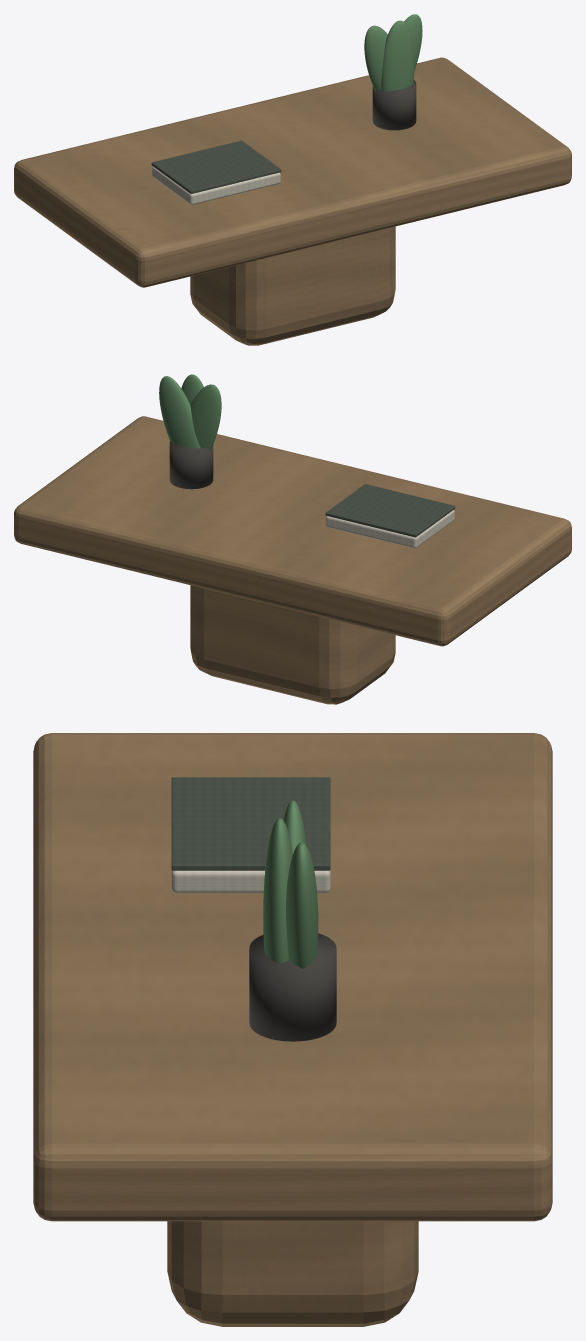
Rendered from coffee-table.glb.
3 views of the same model, one above another, from view 1: azimuth 30°, elevation 25°; view 2: azimuth 150°, elevation 25°; view 3: azimuth 270°, elevation 25° (orthographic). The views are drawn at different scales.
Parts seen in each view (by area): view 1: CANONICAL rounded top, CANONICAL pedestal, ACCENT book cover, ACCENT leaf.002, ACCENT planter, ACCENT bound book, ACCENT leaf, ACCENT leaf.001; view 2: CANONICAL rounded top, CANONICAL pedestal, ACCENT book cover, ACCENT leaf.001, ACCENT planter, ACCENT leaf, ACCENT bound book; view 3: CANONICAL rounded top, CANONICAL pedestal, ACCENT book cover, ACCENT planter, ACCENT leaf.001, ACCENT leaf.002, ACCENT bound book.
Boxes of the visible parts, <box> form: CANONICAL rounded top: <box>14,57,571,287</box>; CANONICAL pedestal: <box>190,226,395,345</box>; ACCENT book cover: <box>151,140,281,193</box>; ACCENT leaf.002: <box>381,20,414,90</box>; ACCENT planter: <box>372,80,416,130</box>; ACCENT bound book: <box>152,166,280,204</box>; ACCENT leaf: <box>364,25,387,91</box>; ACCENT leaf.001: <box>404,14,422,70</box>; CANONICAL rounded top: <box>14,416,571,646</box>; CANONICAL pedestal: <box>190,585,395,704</box>; ACCENT book cover: <box>325,484,455,537</box>; ACCENT leaf.001: <box>159,376,200,448</box>; ACCENT planter: <box>169,441,213,489</box>; ACCENT leaf: <box>190,384,221,450</box>; ACCENT bound book: <box>326,510,454,548</box>; CANONICAL rounded top: <box>33,733,552,1221</box>; CANONICAL pedestal: <box>167,1221,418,1326</box>; ACCENT book cover: <box>171,777,330,870</box>; ACCENT planter: <box>249,933,336,1041</box>; ACCENT leaf.001: <box>286,842,318,968</box>; ACCENT leaf.002: <box>263,818,292,962</box>; ACCENT bound book: <box>171,870,330,892</box>.
Size of the model in its own units: 1.2 by 0.7203 by 0.62.
Materials: 5 (3 with a texture image).
